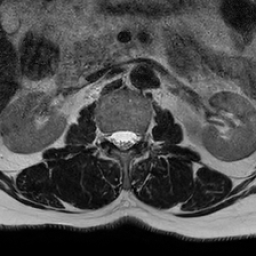CCS_normal: (120, 121, 128, 156)
LFS_normal: (137, 123, 146, 150)
LLS_normal: (128, 123, 137, 150)
RFS_normal: (102, 123, 112, 147)
RLS_normal: (110, 122, 120, 148)
